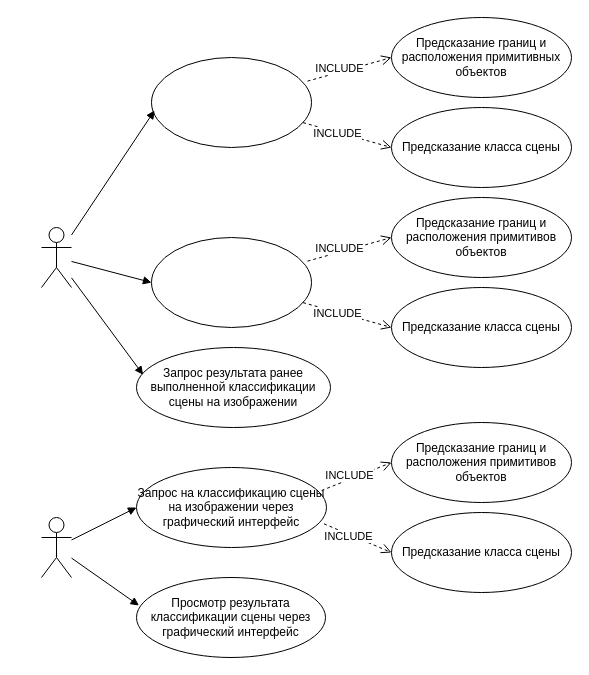
Some shapes in this 589 by 675 pixel diagram are drawn without their labels. Each missing label, with the centre of its shape:
"Асинхронный запрос на классификацию сцены на изображении" belongs at (x=231, y=282).
"Внешняя система" belongs at (x=56, y=257).
"Пользователь" belongs at (x=56, y=547).
"Синхронный запрос на классификацию сцены на изображении" belongs at (x=231, y=102).
